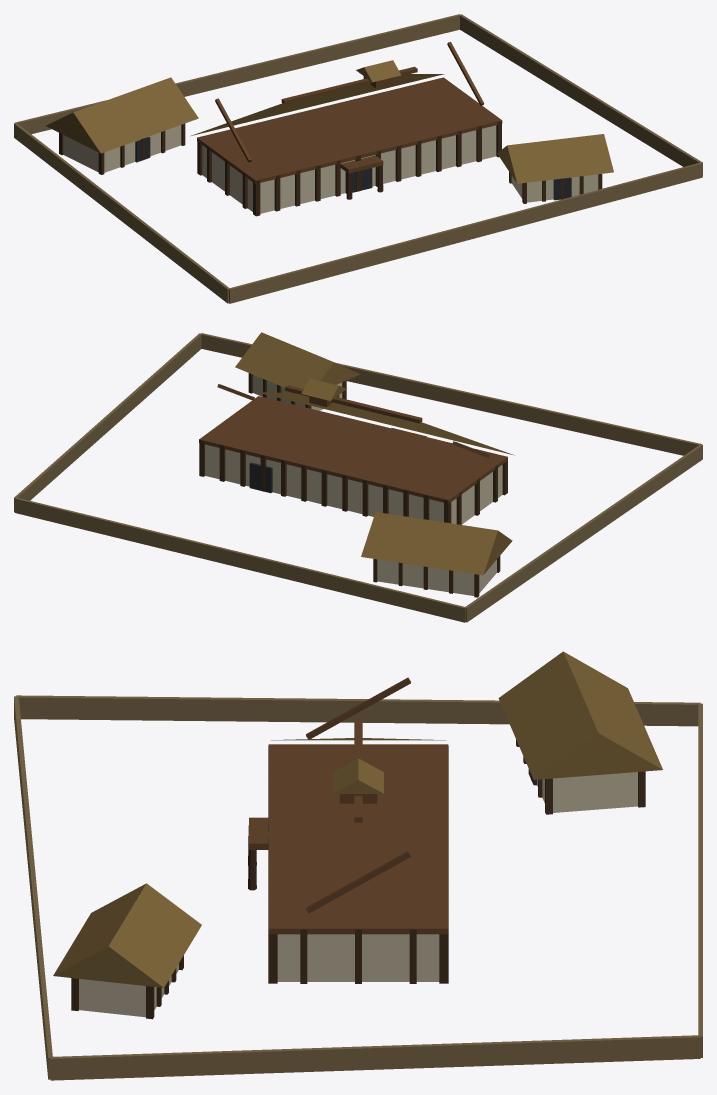
File: saxon_hall.glb
3 renders of one model, top to bottom at view 1: azimuth 30°, elevation 25°; view 2: azimuth 150°, elevation 25°; view 3: azimuth 270°, elevation 25°, orthographic. The views are drawn at different scales.
Parts seen in each view (by area): view 1: saxon_hall; view 2: saxon_hall; view 3: saxon_hall.
Boxes of the visible parts, <box> form: saxon_hall: <box>14,14,702,303</box>; saxon_hall: <box>14,332,702,622</box>; saxon_hall: <box>14,651,702,1080</box>.
Size of the model in its own units: 50.28 by 9.3 by 40.28.
